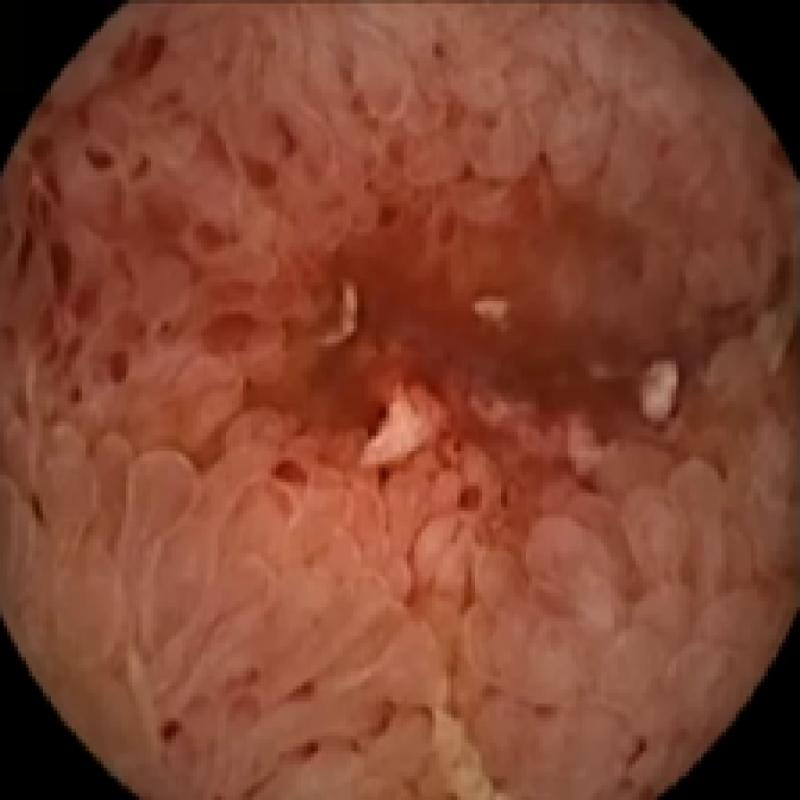bleeding: (32, 82, 800, 464)
